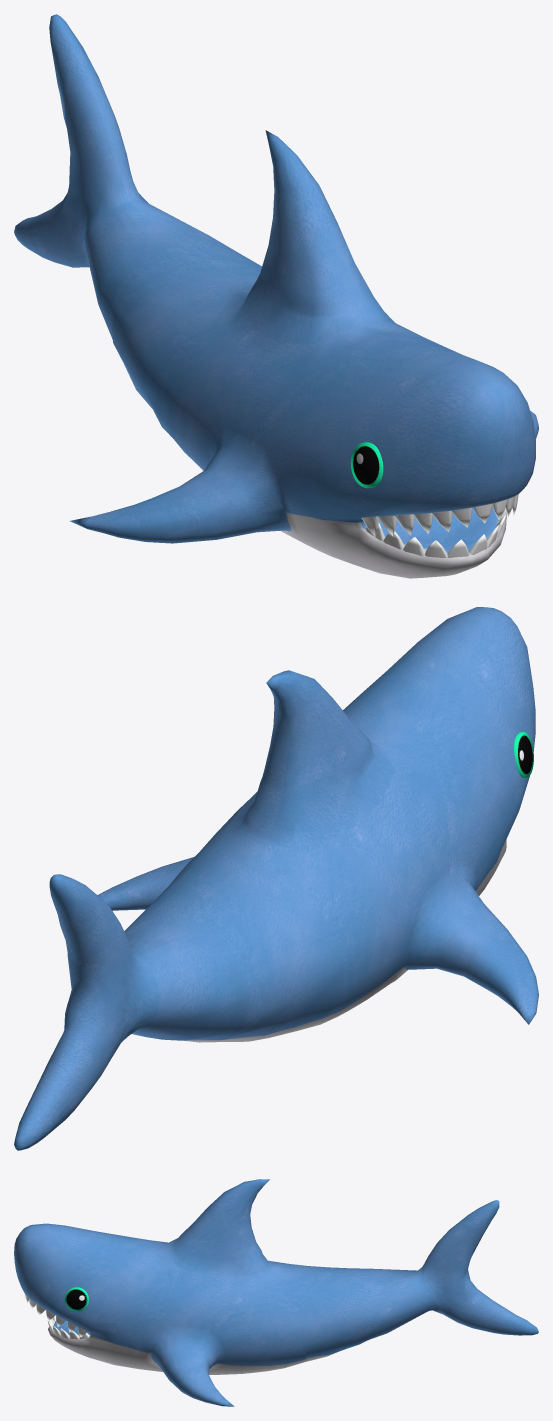
3 renders of one model, top to bottom at view 1: azimuth 30°, elevation 25°; view 2: azimuth 150°, elevation 25°; view 3: azimuth 270°, elevation 25°, orthographic. The views are drawn at different scales.
Parts seen in each view (by area): view 1: Sharkplush; view 2: Sharkplush; view 3: Sharkplush.
Boxes of the visible parts, x1=… form: Sharkplush: x1=14, y1=14, x2=538, y2=578; Sharkplush: x1=14, y1=607, x2=538, y2=1150; Sharkplush: x1=14, y1=1179, x2=538, y2=1406.
Bounding box in the file's own units: 0.9937 × 0.7301 × 1.83.
1 material, 1 textured.
